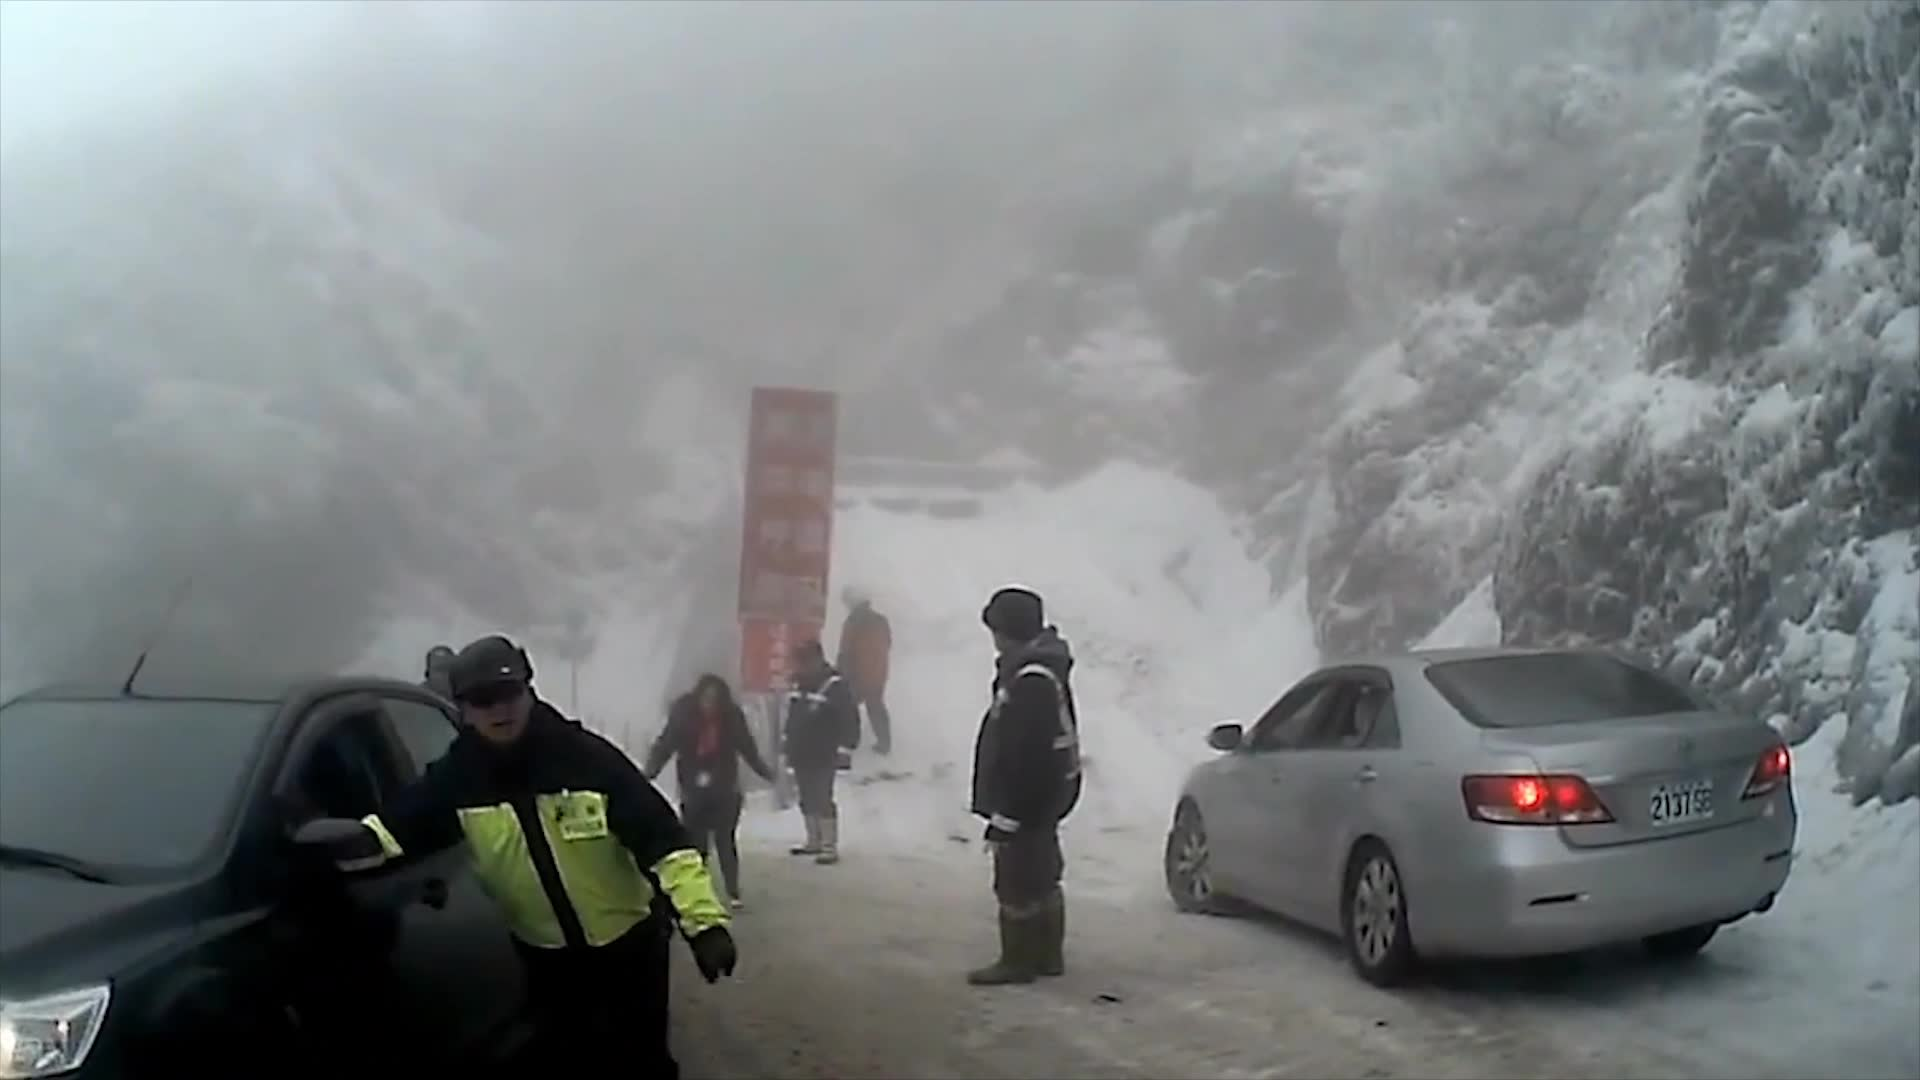pedestrian: (318, 638, 747, 1080), (954, 585, 1085, 984), (646, 671, 783, 923), (391, 647, 512, 921), (785, 641, 860, 864), (832, 578, 895, 750)
vehicle: (0, 669, 594, 1079), (1159, 639, 1797, 985)
